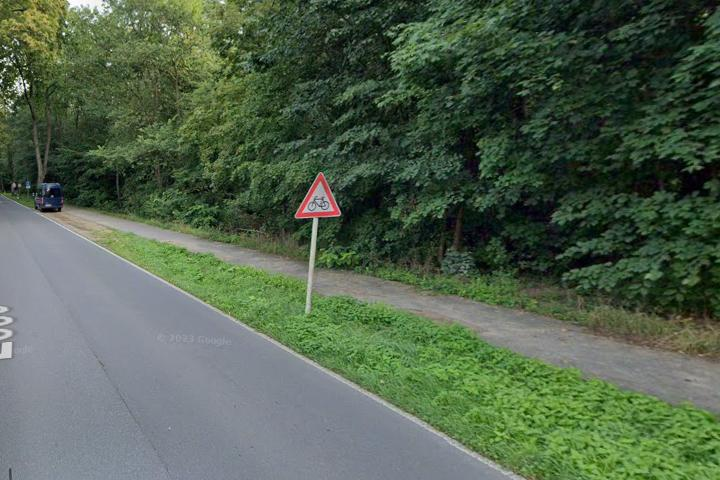traffic_sign: (292, 171, 342, 219)
vehicle: (33, 181, 65, 213)
